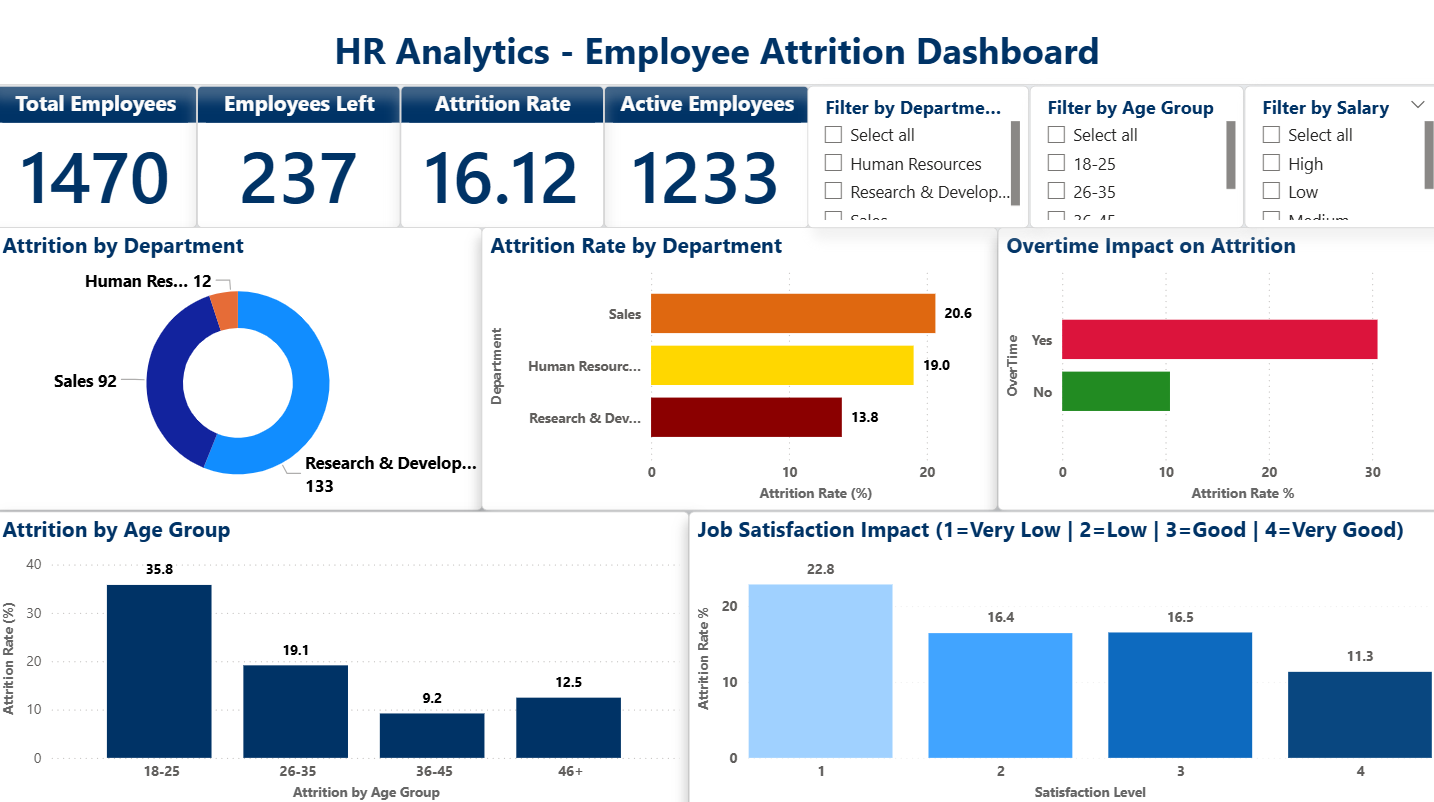

The page's visual inventory and layout, read from the dashboard file:
{"tool":"powerbi","page":{"name":"Page 1","canvas":[1280,720],"ordinal":0},"visuals":[{"type":"card","title":"Total Employees","fields":{"Values":["HR_Employee_Data_Cleaned.Total Employees"]},"box":[0,79.3,179.7,126.3],"z":0},{"type":"card","title":"Employees Left","fields":{"Values":["HR_Employee_Data_Cleaned.Employees Left"]},"box":[179.7,79.3,179.7,126.3],"z":1000},{"type":"card","title":"Active Employees","fields":{"Values":["HR_Employee_Data_Cleaned.Active Employees"]},"box":[539.2,79.3,181.4,126.3],"z":2000},{"type":"card","title":"Attrition Rate","fields":{"Values":["HR_Employee_Data_Cleaned.Attrition Rate %"]},"box":[359.5,79.3,179.7,126.3],"z":3000},{"type":"donutChart","title":"Attrition by Department","fields":{"Category":["HR_Employee_Data_Cleaned.Department"],"Y":["HR_Employee_Data_Cleaned.Employees Left"]},"box":[0,205.6,432.3,251],"z":4000},{"type":"clusteredBarChart","title":"Attrition Rate by Department","fields":{"Category":["HR_Employee_Data_Cleaned.Department"],"Y":["HR_Employee_Data_Cleaned.Attrition Rate %"]},"box":[432.3,205.6,456.6,251],"z":5000},{"type":"clusteredColumnChart","title":"Attrition by Age Group","fields":{"Y":["HR_Employee_Data_Cleaned.Attrition Rate %"],"Category":["HR_Employee_Data_Cleaned.AgeGroup"]},"box":[0,456.6,615.3,263.9],"z":6000},{"type":"clusteredBarChart","title":"Overtime Impact on Attrition","fields":{"Category":["HR_Employee_Data_Cleaned.OverTime"],"Y":["HR_Employee_Data_Cleaned.Attrition Rate %"]},"box":[889,205.6,391.9,251],"z":7000},{"type":"clusteredColumnChart","title":"Job Satisfaction Impact (1=Very Low  |  2=Low  |  3=Good  |  4=Very Good)","fields":{"Category":["HR_Employee_Data_Cleaned.JobSatisfaction"],"Y":["HR_Employee_Data_Cleaned.Attrition Rate %"]},"box":[615.3,456.6,665.5,263.9],"z":8000},{"type":"textbox","box":[0,0,1280.8,79.3],"z":9000},{"type":"slicer","fields":{"Values":["HR_Employee_Data_Cleaned.Department"]},"box":[720.6,79.3,195.9,126.3],"z":10000},{"type":"slicer","fields":{"Values":["HR_Employee_Data_Cleaned.AgeGroup"]},"box":[916.5,79.3,189.4,126.3],"z":11000},{"type":"slicer","fields":{"Values":["HR_Employee_Data_Cleaned.SalaryRange"]},"box":[1105.9,79.3,174.9,126.3],"z":12000}]}

Visuals, with their boxes in screenshot pixels (x1, y1, x2, y2), scaled from the page's 1280x720 canvas onto the 1434x802 screenshot:
"Total Employees" card: bbox(0, 88, 201, 229)
"Employees Left" card: bbox(201, 88, 403, 229)
"Active Employees" card: bbox(604, 88, 807, 229)
"Attrition Rate" card: bbox(403, 88, 604, 229)
"Attrition by Department" donutChart: bbox(0, 229, 484, 509)
"Attrition Rate by Department" clusteredBarChart: bbox(484, 229, 996, 509)
"Attrition by Age Group" clusteredColumnChart: bbox(0, 509, 689, 801)
"Overtime Impact on Attrition" clusteredBarChart: bbox(996, 229, 1433, 509)
"Job Satisfaction Impact (1=Very Low  |  2=Low  |  3=Good  |  4=Very Good)" clusteredColumnChart: bbox(689, 509, 1433, 801)
textbox: bbox(0, 0, 1433, 88)
slicer - HR_Employee_Data_Cleaned.Department: bbox(807, 88, 1027, 229)
slicer - HR_Employee_Data_Cleaned.AgeGroup: bbox(1027, 88, 1239, 229)
slicer - HR_Employee_Data_Cleaned.SalaryRange: bbox(1239, 88, 1433, 229)
